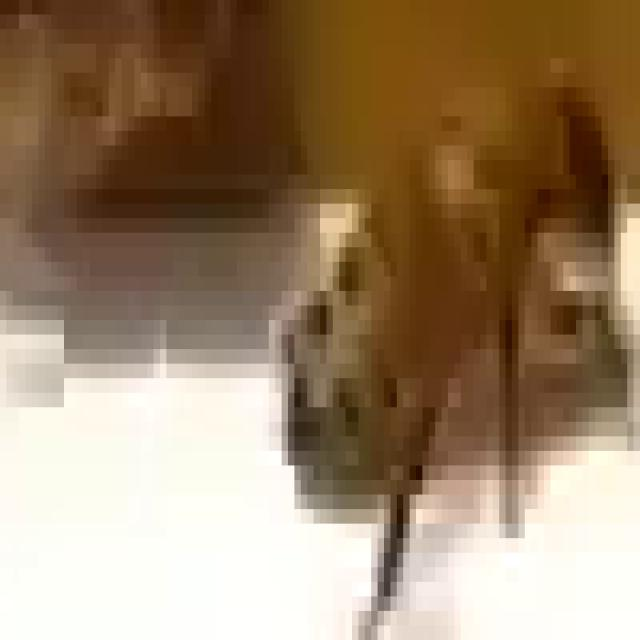honeybee: (283, 67, 611, 570)
